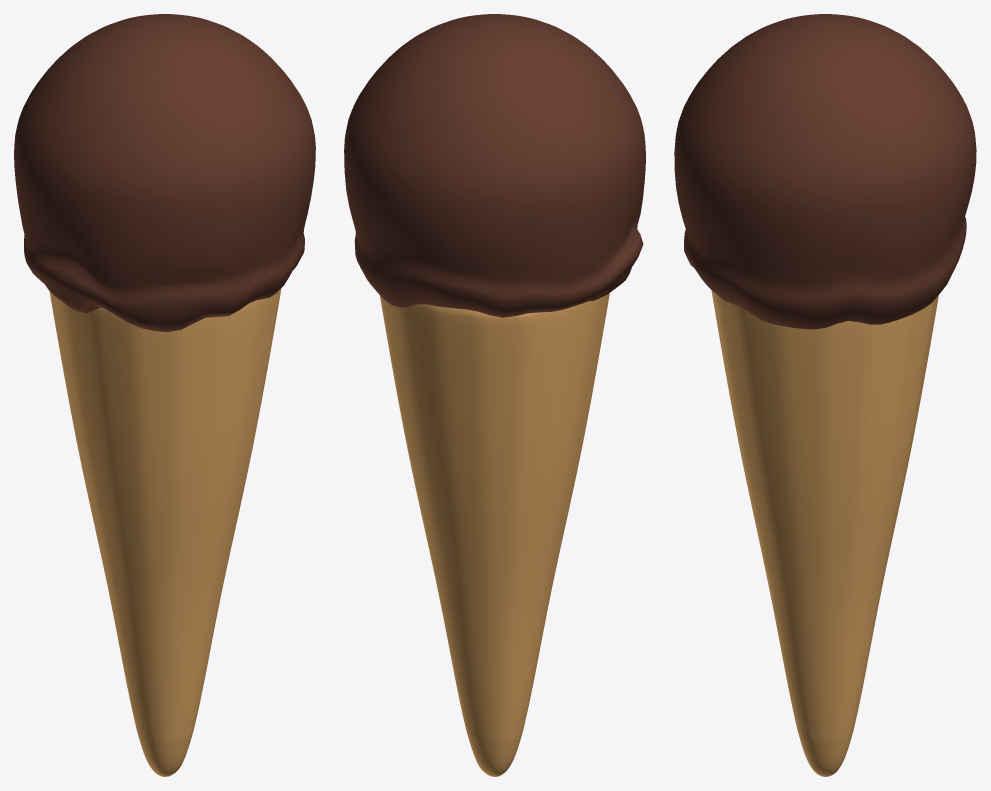
File: IceCream_Chocolate.fbx
3 renders of one model, left to right at view 1: azimuth 30°, elevation 25°; view 2: azimuth 150°, elevation 25°; view 3: azimuth 270°, elevation 25°, orthographic.
Visible parts, largest first — view 1: IceCream_Chocolate; view 2: IceCream_Chocolate; view 3: IceCream_Chocolate.
Boxes of the visible parts, x1,y1,x2,y2 form: IceCream_Chocolate: (14, 14, 315, 776); IceCream_Chocolate: (344, 14, 645, 776); IceCream_Chocolate: (674, 14, 976, 776).
Bounding box in the file's own units: 464 × 1269 × 464.
